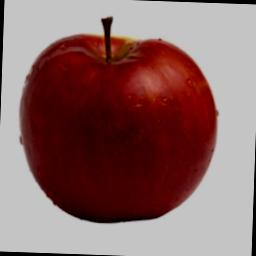Apple Ripe: (1, 7, 256, 241)
